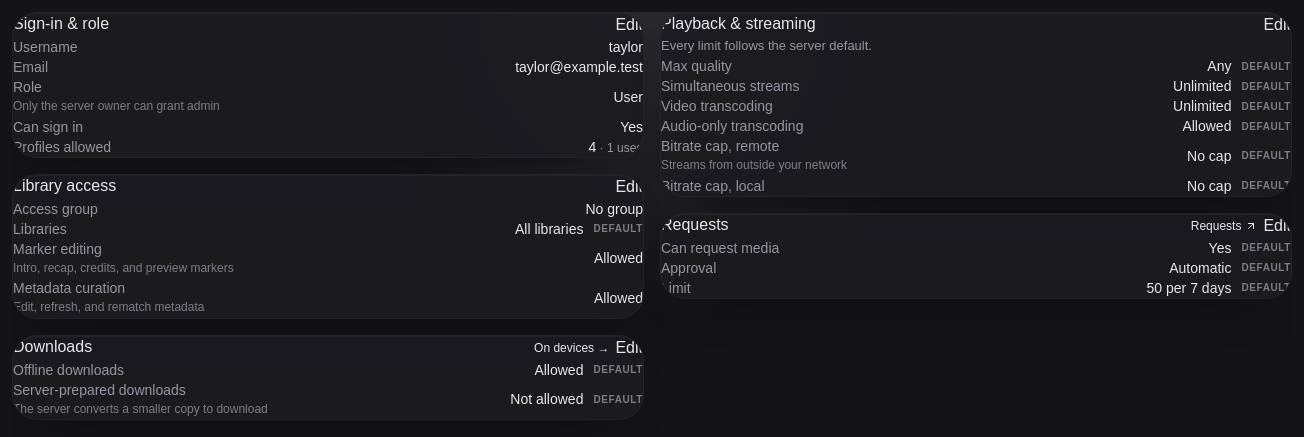
Test: card editing › edits one card at a time
Click the button with aria-label "Edit Playback & streaming": coordinates (1277, 25) [1263,13,1291,37]
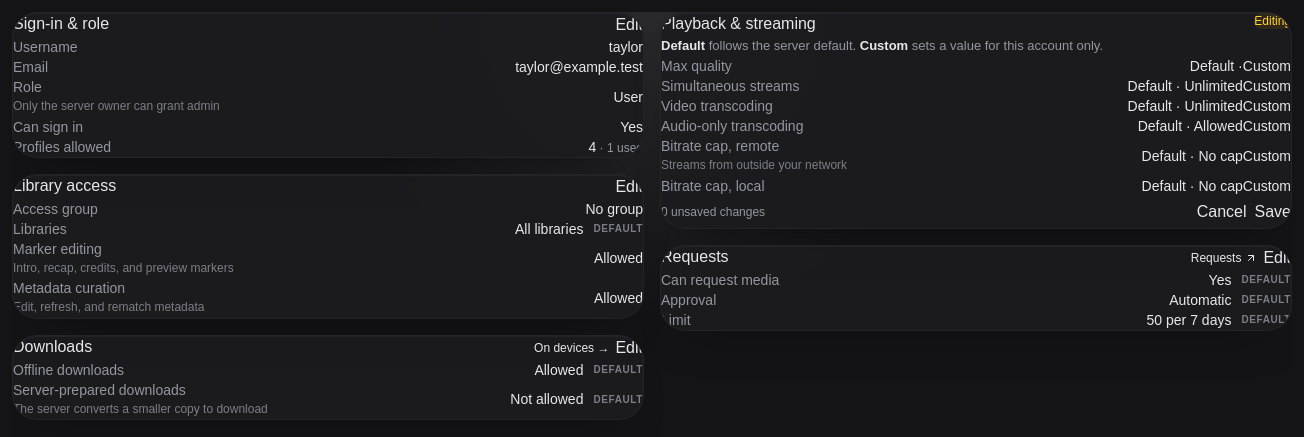
Expected: the button with aria-label "Edit Sign-in & role" is disabled, [615,13,643,37]
Expected: the text "Editing" is shown, [1254,13,1291,29]
Expected: the button with aria-label "Edit Requests" is disabled, [1263,246,1291,270]
Click the button "Cancel": coordinates (1222, 212) [1197,196,1246,228]
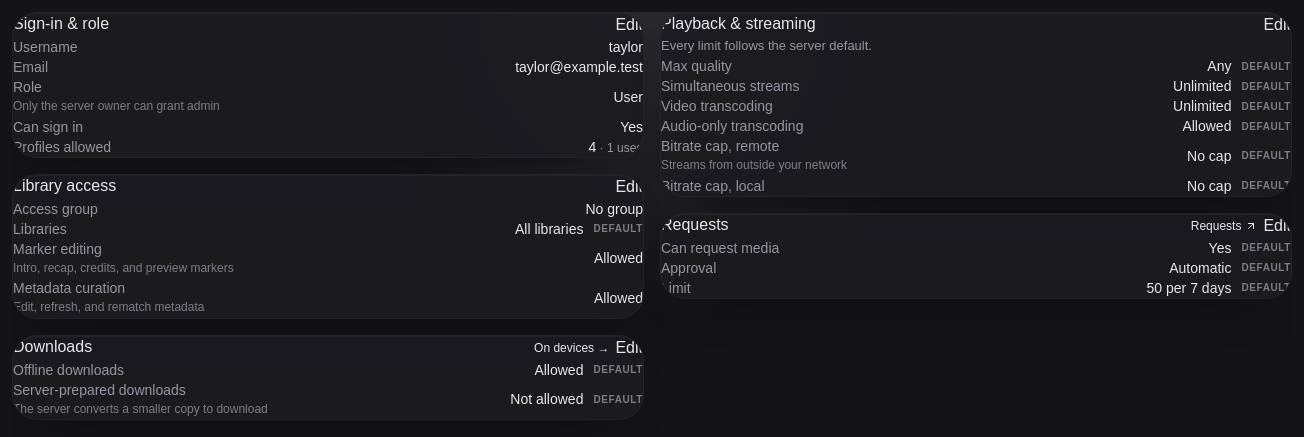
Expected: the button with aria-label "Edit Requests" is enabled, [1263,214,1291,238]
